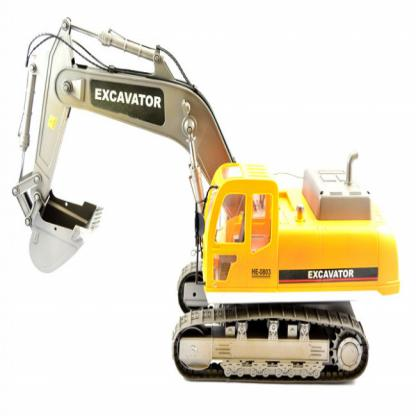excavator: (17, 12, 394, 386)
